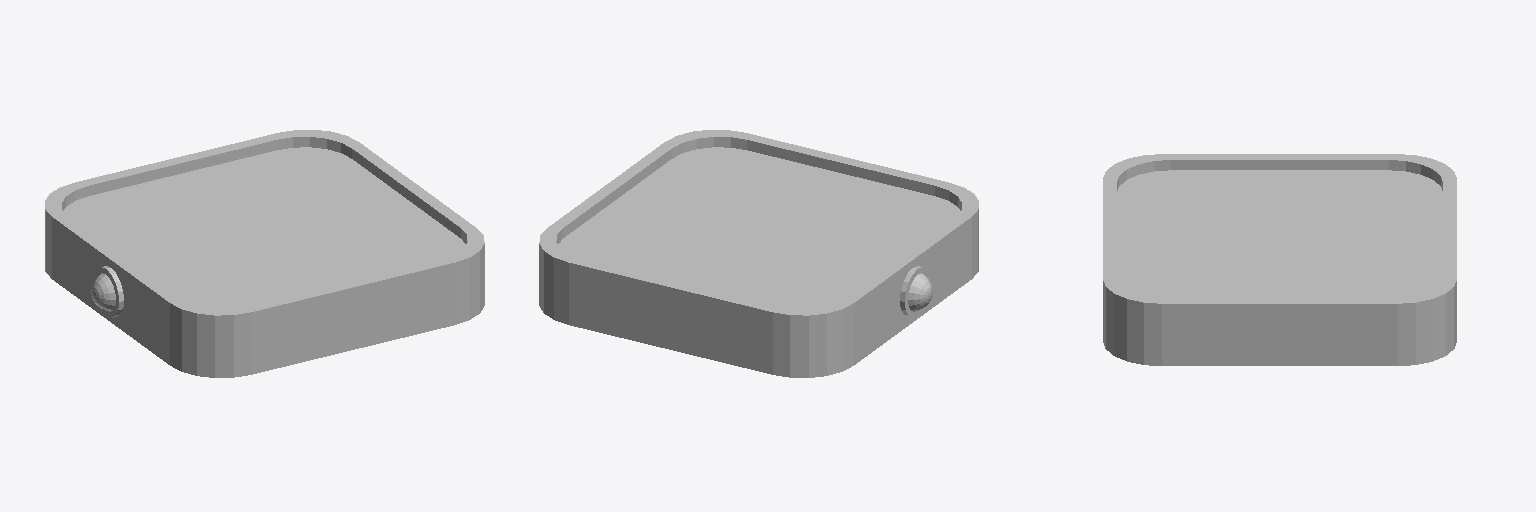
File: sensor.obj
3 renders of one model, left to right at view 1: azimuth 30°, elevation 25°; view 2: azimuth 150°, elevation 25°; view 3: azimuth 270°, elevation 25°, orthographic.
Visible parts, largest first — view 1: Cube; view 2: Cube; view 3: Cube.
Part boxes in pixels (x1,y1,x2,y2): Cube: (45,130,484,377); Cube: (539,130,978,377); Cube: (1103,154,1456,365).
Size of the model in its own units: 2.11 by 0.3895 by 2.